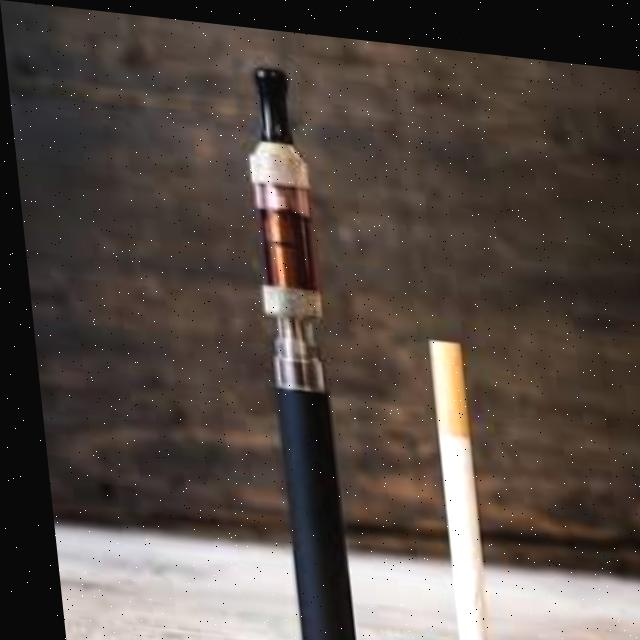cigarette: (422, 330, 479, 640)
vape: (240, 53, 350, 640)
